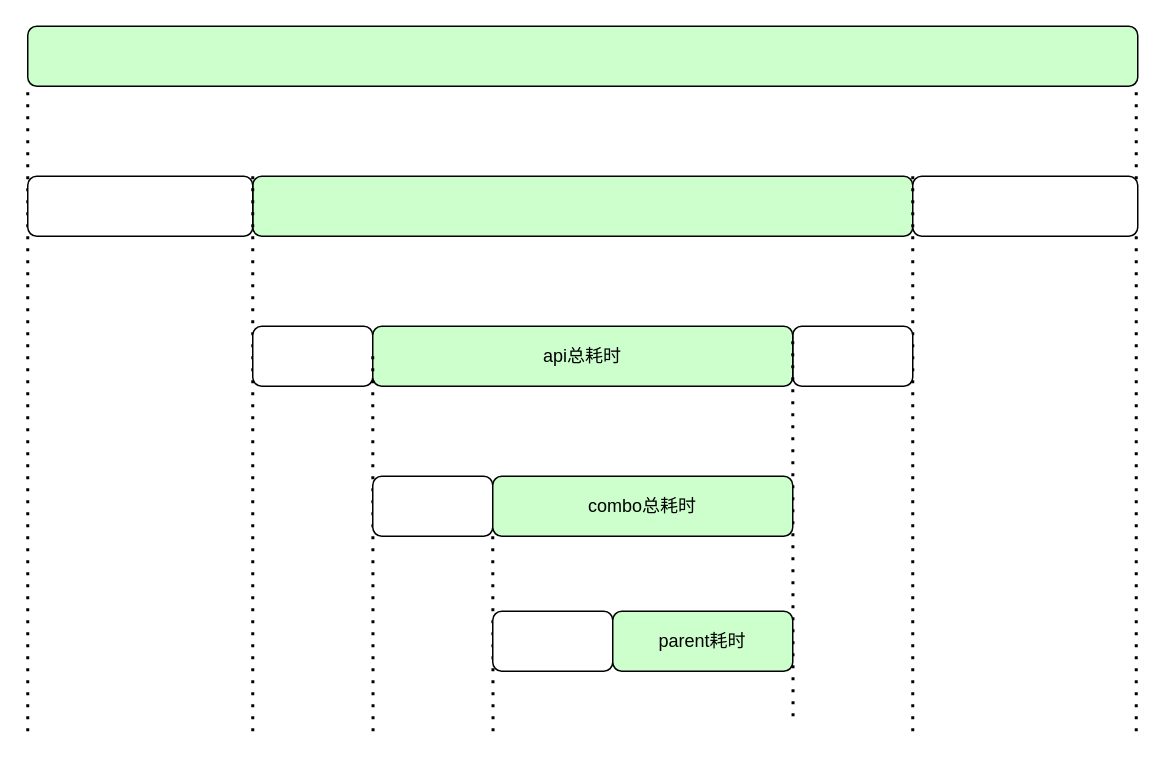
This 1166x761 diagram has some shape labels left out. Here are the shapes that lost their labels. From the top down, the centre of each, then its label:
At pixel 582 55: "端到端整体耗时".
At pixel 582 205: "请求总耗时(客户端视角)".
